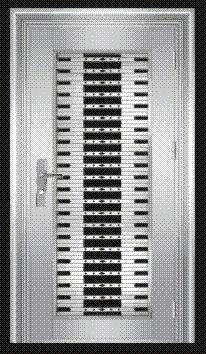door: (21, 21, 184, 345)
